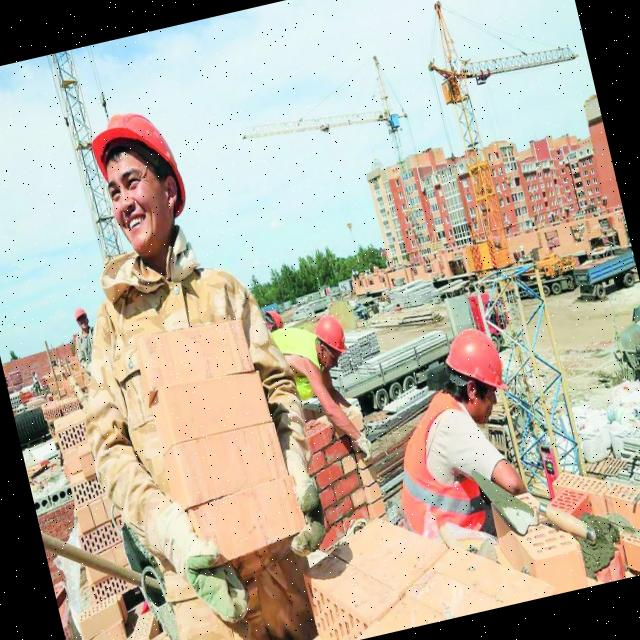Helmet: (84, 104, 181, 197), (441, 324, 509, 402), (312, 314, 349, 360), (268, 309, 284, 331), (76, 309, 89, 325)
Jacket: (404, 397, 509, 531), (274, 324, 326, 387)
NoJacket: (76, 327, 97, 363)
